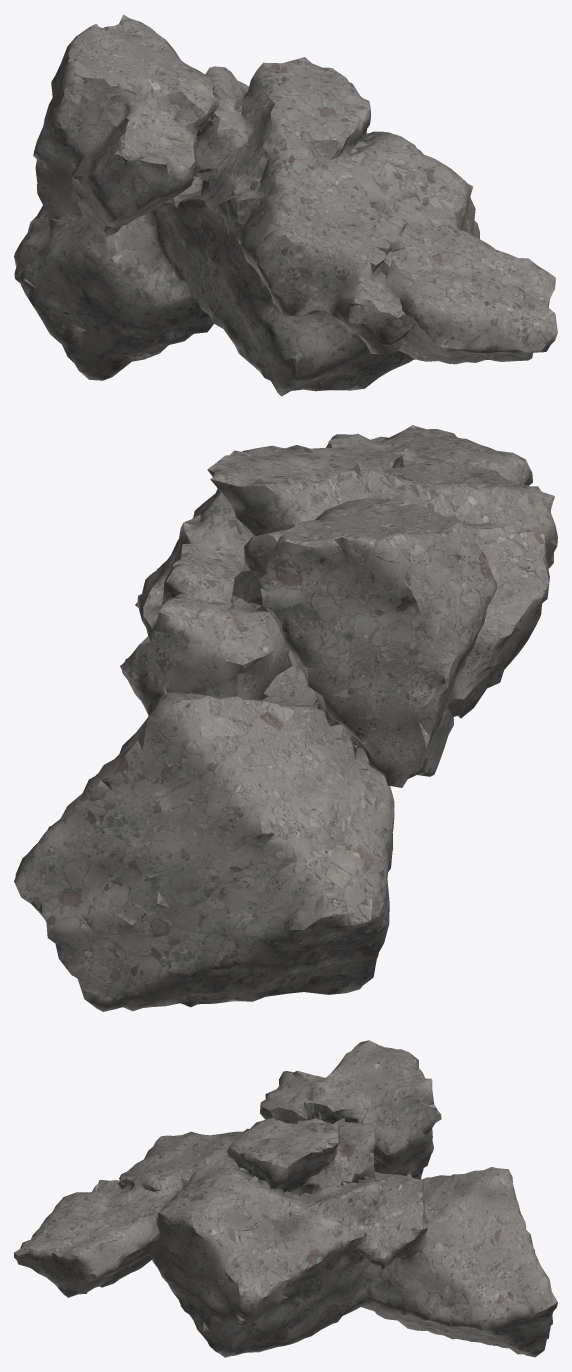
The model's file is concrete_rubble_cluster_a.glb.
3 renders of one model, top to bottom at view 1: azimuth 30°, elevation 25°; view 2: azimuth 150°, elevation 25°; view 3: azimuth 270°, elevation 25°, orthographic. The views are drawn at different scales.
Visible parts, largest first — view 1: rubble_cluster_a; view 2: rubble_cluster_a; view 3: rubble_cluster_a.
Part boxes in pixels (bbox=[...]): rubble_cluster_a: bbox=[14, 14, 557, 396]; rubble_cluster_a: bbox=[14, 425, 557, 1011]; rubble_cluster_a: bbox=[14, 1040, 557, 1357].
Size of the model in its own units: 0.8183 by 0.791 by 1.46.
1 material, 1 textured.
